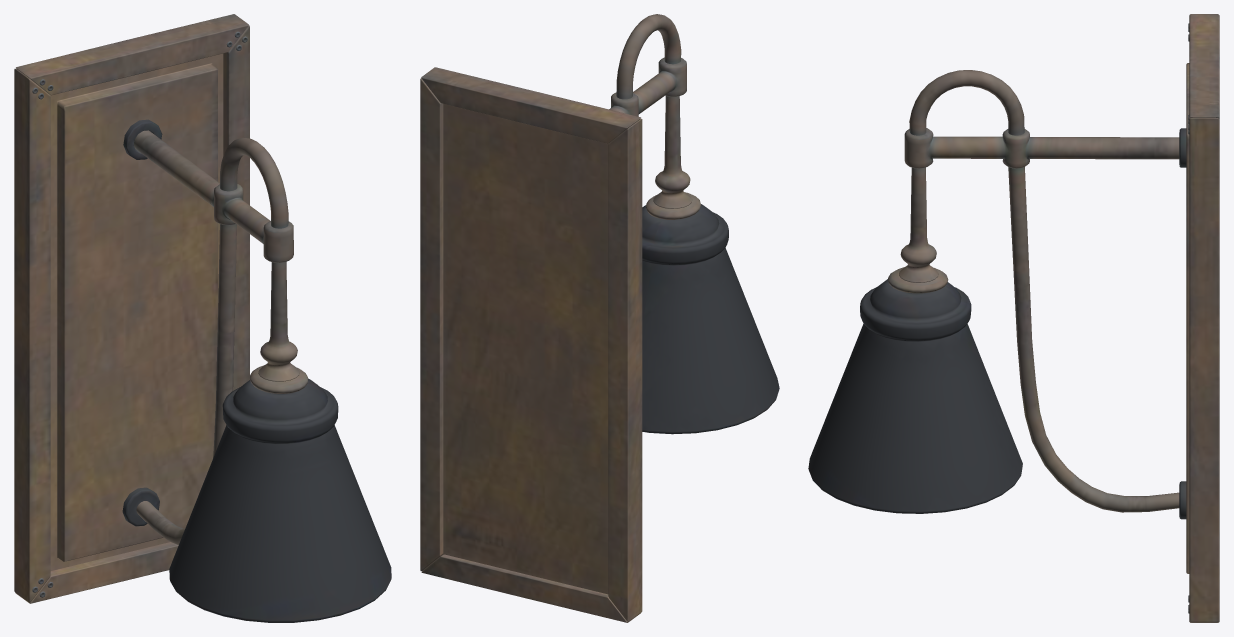
The model's file is lamp-wall-sconce.a8d0dbf4.glb.
3 views of the same model, side by side, from view 1: azimuth 30°, elevation 25°; view 2: azimuth 150°, elevation 25°; view 3: azimuth 270°, elevation 25° (orthographic). The views are drawn at different scales.
Parts seen in each view (by area): view 1: model; view 2: model; view 3: model.
Boxes of the visible parts, x1,y1,x2,y2 form: model: (14, 14, 391, 622); model: (420, 14, 779, 622); model: (808, 14, 1219, 622).
Size of the model in its own units: 0.1503 by 0.3418 by 0.2516.
Materials: 2 (2 with a texture image).
